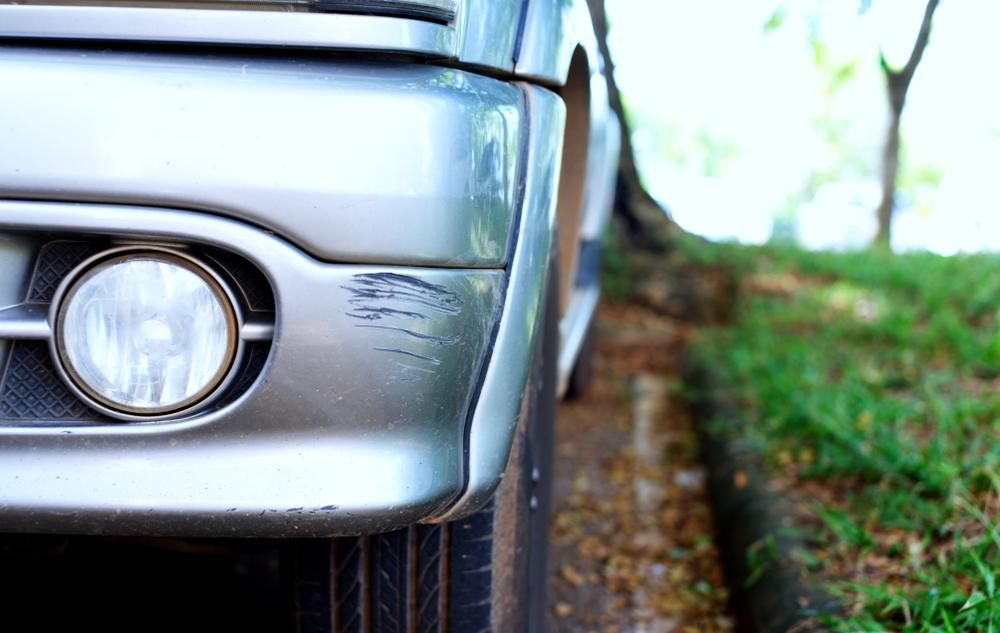scratch: (340, 268, 463, 405), (221, 499, 346, 516)
